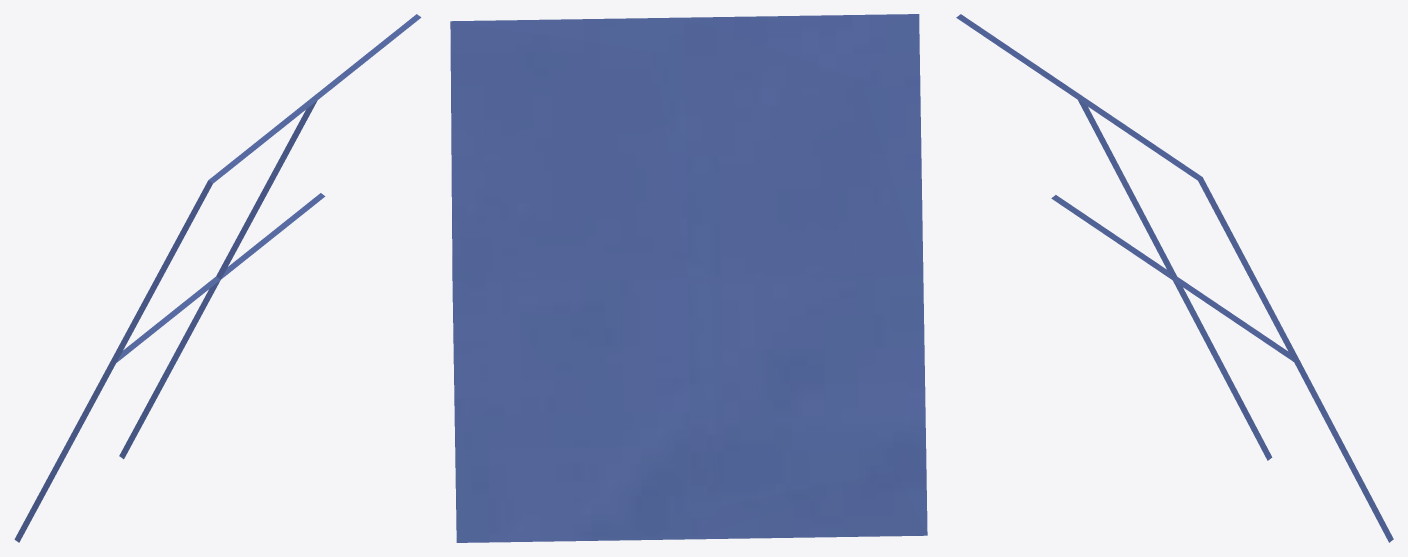
3 renders of one model, left to right at view 1: azimuth 30°, elevation 25°; view 2: azimuth 150°, elevation 25°; view 3: azimuth 270°, elevation 25°, orthographic. The views are drawn at different scales.
Bounding box in the file's own units: 19651 × 17686 × 16935.
Materials: 1 (1 with a texture image).
